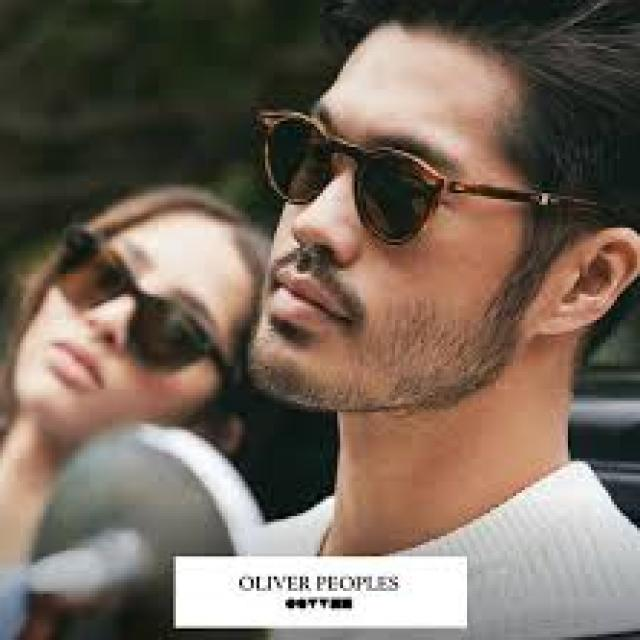Glasses: (251, 98, 608, 254), (52, 225, 242, 398)
